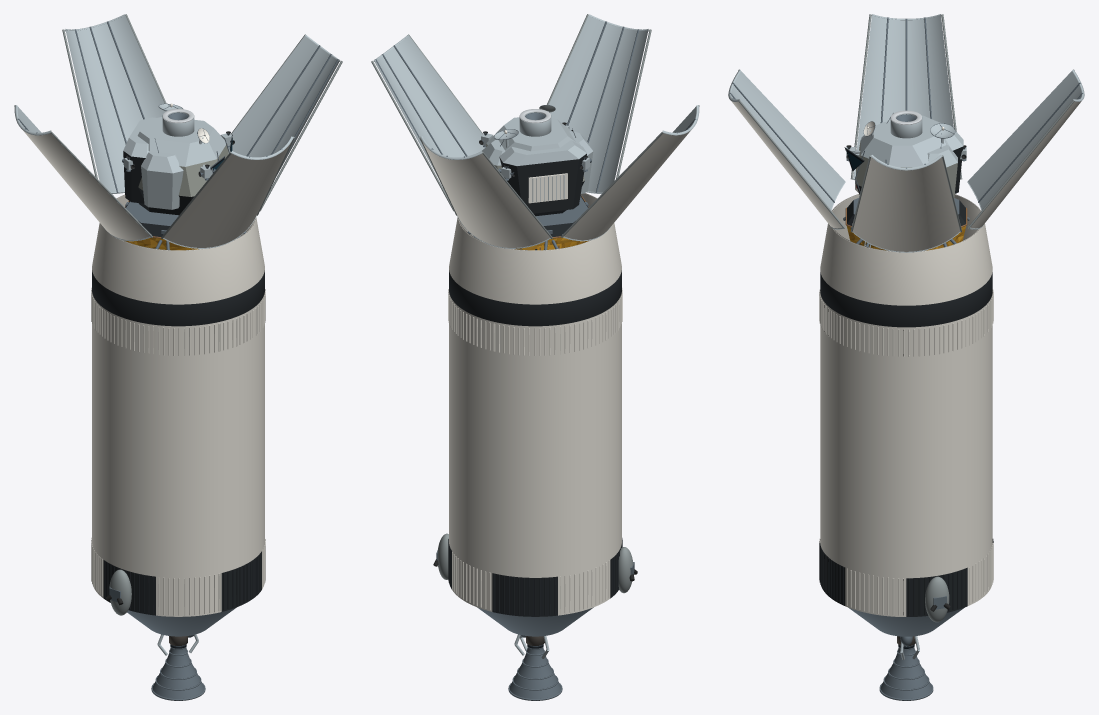
The model's file is apollo11_sla_open.glb.
3 renders of one model, left to right at view 1: azimuth 30°, elevation 25°; view 2: azimuth 150°, elevation 25°; view 3: azimuth 270°, elevation 25°, orthographic.
Visible parts, largest first — view 1: s_ivb.skin.mesh, sla.panel_03.mesh, sla.mesh, sla.panel_02.mesh, sla.panel_01.mesh, sla.panel_04.mesh, instrument_unit.mesh, eagle_ascent.pressure_cabin.mesh, eagle_ascent.equipment_left.mesh, s_ivb.j2_01.nozzle.mesh, s_ivb.mesh, eagle_descent.thermal_blanket.mesh (+3 smaller); view 2: s_ivb.skin.mesh, sla.panel_01.mesh, sla.mesh, sla.panel_02.mesh, sla.panel_03.mesh, eagle_ascent.aft_equipment_bay.mesh, sla.panel_04.mesh, instrument_unit.mesh, s_ivb.j2_01.nozzle.mesh, eagle_ascent.pressure_cabin.mesh, s_ivb.mesh, eagle_descent.thermal_blanket.mesh (+2 smaller); view 3: s_ivb.skin.mesh, sla.mesh, sla.panel_04.mesh, sla.panel_02.mesh, sla.panel_01.mesh, sla.panel_03.mesh, instrument_unit.mesh, eagle_ascent.pressure_cabin.mesh, s_ivb.j2_01.nozzle.mesh, s_ivb.mesh, s_ivb.aps_01.mesh, eagle_descent.thermal_blanket.mesh (+2 smaller).
Part boxes in pixels (x1,y1,x2,y2): s_ivb.skin.mesh: (91,288,265,616); sla.panel_03.mesh: (62,14,166,193); sla.mesh: (92,194,264,304); sla.panel_02.mesh: (228,34,342,211); sla.panel_01.mesh: (161,136,294,248); sla.panel_04.mesh: (14,105,152,241); instrument_unit.mesh: (92,270,264,326); eagle_ascent.pressure_cabin.mesh: (137,116,229,215); eagle_ascent.equipment_left.mesh: (141,151,183,209); s_ivb.j2_01.nozzle.mesh: (151,644,205,700); s_ivb.mesh: (127,607,236,636); eagle_descent.thermal_blanket.mesh: (125,201,198,250); s_ivb.skin.mesh: (448,288,622,616); sla.panel_01.mesh: (547,14,651,193); sla.mesh: (449,193,621,304); sla.panel_02.mesh: (371,34,485,211); sla.panel_03.mesh: (419,136,552,248); eagle_ascent.aft_equipment_bay.mesh: (499,140,586,213); sla.panel_04.mesh: (561,105,699,241); instrument_unit.mesh: (449,270,621,326); s_ivb.j2_01.nozzle.mesh: (508,644,562,700); eagle_ascent.pressure_cabin.mesh: (486,117,584,216); s_ivb.mesh: (477,607,593,636); eagle_descent.thermal_blanket.mesh: (515,195,588,250); s_ivb.skin.mesh: (819,289,993,616); sla.mesh: (820,194,992,305); sla.panel_04.mesh: (850,14,962,180); sla.panel_02.mesh: (850,155,962,252); sla.panel_01.mesh: (728,69,845,229); sla.panel_03.mesh: (967,69,1084,229); instrument_unit.mesh: (820,272,992,327); eagle_ascent.pressure_cabin.mesh: (855,116,946,194); s_ivb.j2_01.nozzle.mesh: (879,644,933,700); s_ivb.mesh: (848,607,964,636); s_ivb.aps_01.mesh: (925,576,950,622); eagle_descent.thermal_blanket.mesh: (845,198,967,250).
Bounding box in the file's own units: 13.63 × 25.56 × 13.63.
